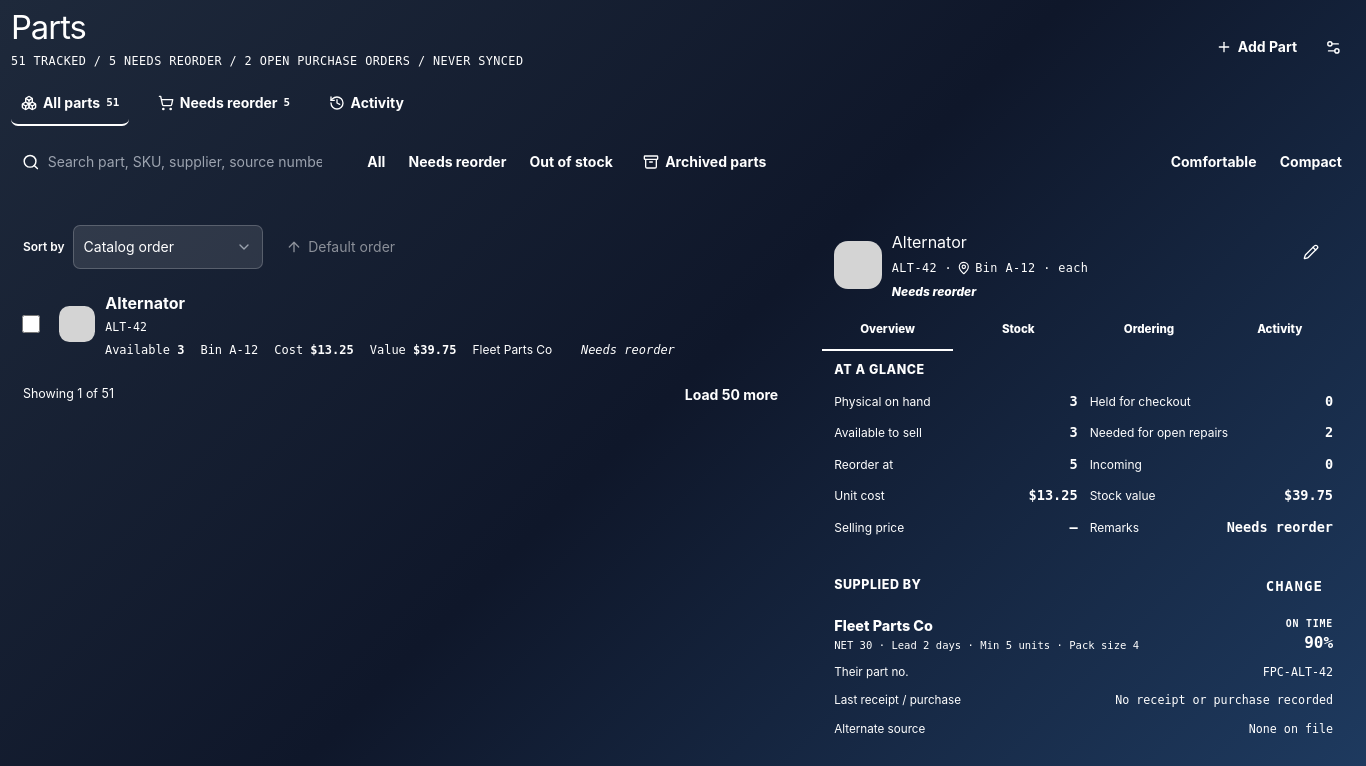
Test: DB-038 Parts & inventory workspace › leads with selected-part identity and relocates stock and ordering actions to their contextual views
Expected: the heading "Alternator" is shown, [892,232,967,252]
Expected: the button named "Edit details" is empty, [1289,230,1333,274]
Step 1. Click the tab "Stock" → (1018, 331), box [953,311,1084,351]
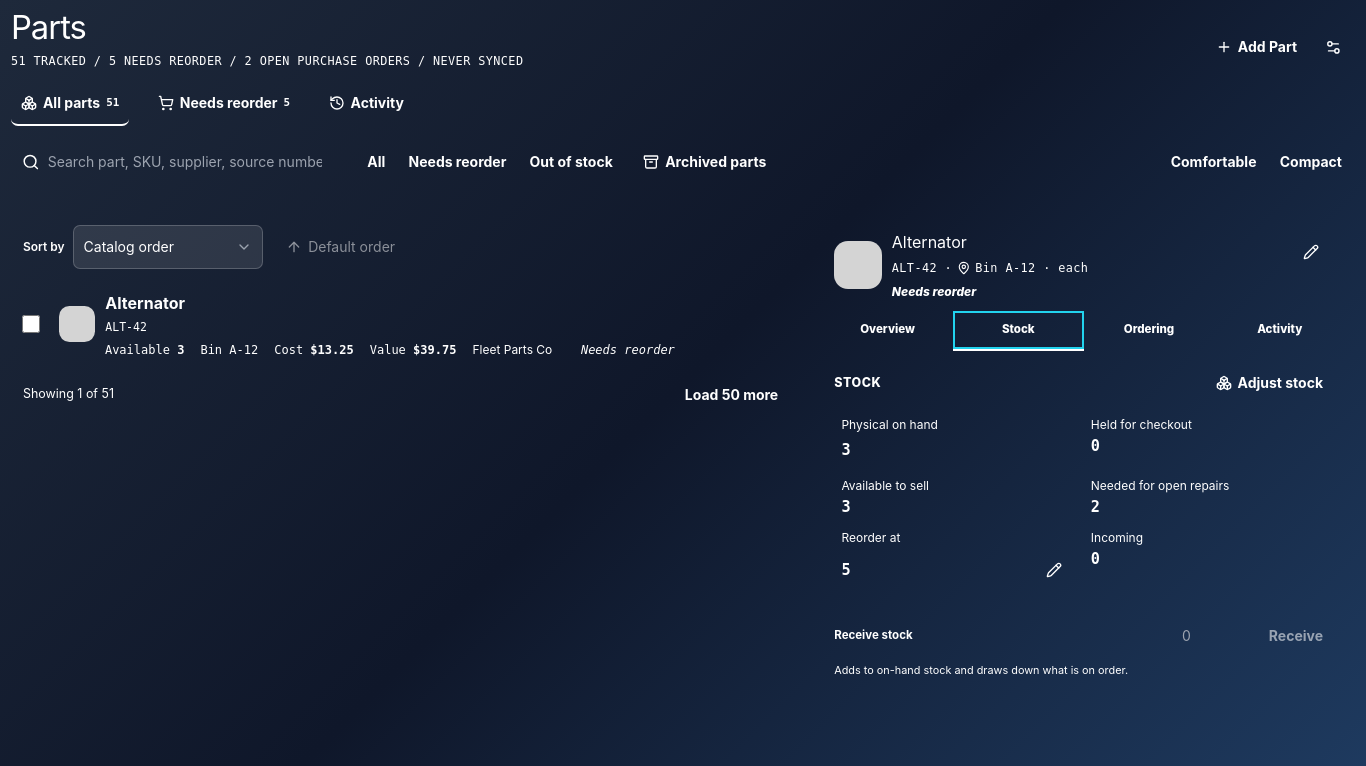
Expected: the button named "Edit reorder point" is shown, [1032,548,1076,592]
Step 2. Click the tab "Ordering" → (1149, 331), box [1084,311,1214,351]
(page scrolled)
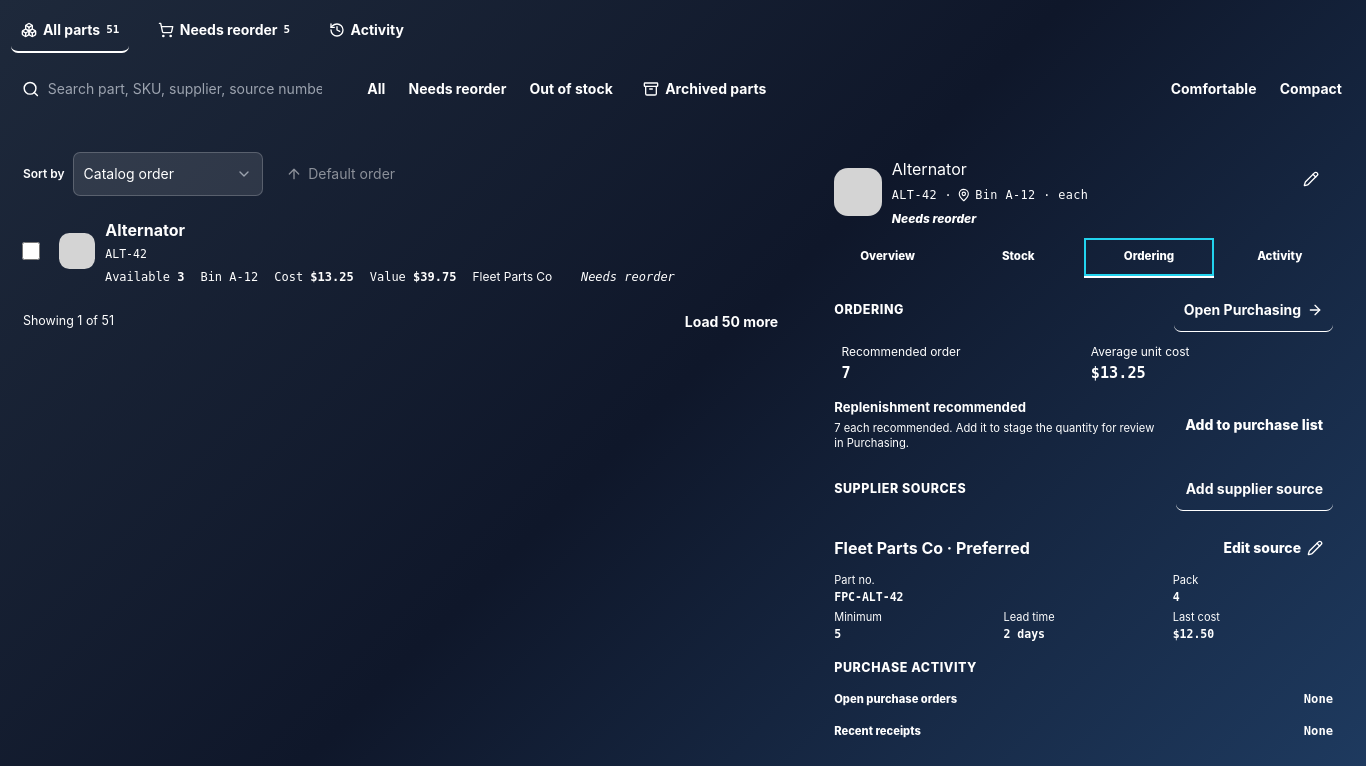
Expected: the text "Replenishment recommended" is shown, [834,399,1026,415]
Expected: the number of buttons "Open Purchasing" is 1, [1174,288,1333,332]
Expected: the heading "Purchase activity" is shown, [834,660,977,675]
